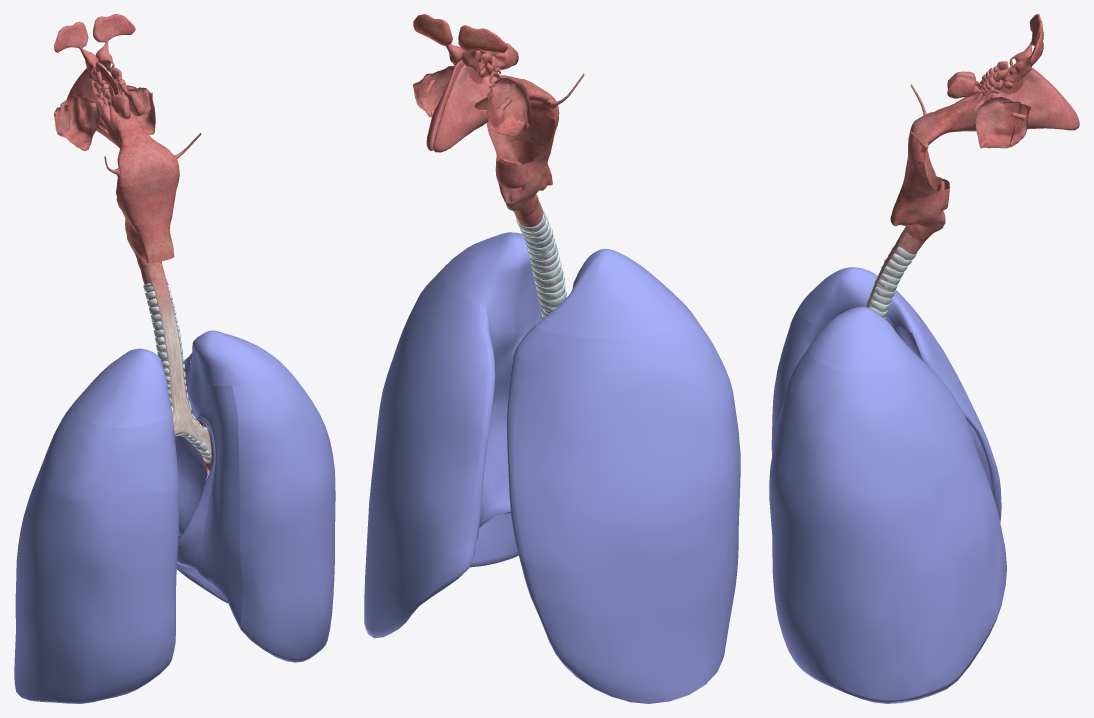
Rendered from respiratory.glb.
3 renders of one model, left to right at view 1: azimuth 30°, elevation 25°; view 2: azimuth 150°, elevation 25°; view 3: azimuth 270°, elevation 25°, orthographic. The views are drawn at different scales.
Parts seen in each view (by area): view 1: Parietal pleura, costovertebral, L#~303035, Parietal pleura, costovertebral, R#~303041, Parietal pleura, mediastinal, R#~303042, Parietal pleura, cervical, L#~303034, Parietal pleura, cervical, R#~303040, Trachea#~001380, Nasopharynx#~001375, Maxillary sinuses (membranes)#~301586, Oropharynx* (see also: digestive system)#~001376, Pulmonary ligament, R#~303044, Nasal cavity#~001366, Laryngopharynx* (see also: digestive system)#~001377 (+5 smaller); view 2: Parietal pleura, costovertebral, L#~303035, Parietal pleura, costovertebral, R#~303041, Parietal pleura, cervical, L#~303034, Parietal pleura, mediastinal, R#~303042, Parietal pleura, cervical, R#~303040, Nasal cavity#~001366, Maxillary sinuses (membranes)#~301586, Tracheal cartilaginous rings#~001381, Laryngopharynx* (see also: digestive system)#~001377, Frontal sinuses (membranes)#~301593, Parietal pleura, diaphragmatic, R#~303043, Oropharynx* (see also: digestive system)#~001376 (+3 smaller); view 3: Parietal pleura, costovertebral, R#~303041, Parietal pleura, cervical, R#~303040, Parietal pleura, costovertebral, L#~303035, Parietal pleura, cervical, L#~303034, Nasal cavity#~001366, Maxillary sinuses (membranes)#~301586, Laryngopharynx* (see also: digestive system)#~001377, Nasopharynx#~001375, Tracheal cartilaginous rings#~001381, Oropharynx* (see also: digestive system)#~001376, Trachea#~001380, Ethmoid sinuses, anterior group (membranes)#~301588 (+4 smaller).
Part boxes in pixels (box(x1,y1,x2,y2)): Parietal pleura, costovertebral, L#~303035: box(14, 395, 179, 702); Parietal pleura, costovertebral, R#~303041: box(183, 357, 335, 662); Parietal pleura, mediastinal, R#~303042: box(175, 356, 242, 628); Parietal pleura, cervical, L#~303034: box(77, 348, 172, 427); Parietal pleura, cervical, R#~303040: box(189, 330, 278, 386); Trachea#~001380: box(140, 263, 193, 435); Nasopharynx#~001375: box(116, 126, 179, 186); Maxillary sinuses (membranes)#~301586: box(54, 85, 155, 150); Oropharynx* (see also: digestive system)#~001376: box(116, 173, 179, 225); Pulmonary ligament, R#~303044: box(177, 416, 215, 569); Nasal cavity#~001366: box(66, 63, 141, 148); Laryngopharynx* (see also: digestive system)#~001377: box(125, 217, 174, 263); Parietal pleura, costovertebral, L#~303035: box(506, 305, 740, 703); Parietal pleura, costovertebral, R#~303041: box(364, 260, 495, 638); Parietal pleura, cervical, L#~303034: box(535, 248, 689, 338); Parietal pleura, mediastinal, R#~303042: box(477, 287, 541, 539); Parietal pleura, cervical, R#~303040: box(444, 232, 535, 305); Nasal cavity#~001366: box(426, 60, 510, 152); Maxillary sinuses (membranes)#~301586: box(413, 65, 531, 136); Tracheal cartilaginous rings#~001381: box(516, 212, 566, 320); Laryngopharynx* (see also: digestive system)#~001377: box(495, 141, 552, 204); Frontal sinuses (membranes)#~301593: box(413, 14, 507, 52); Parietal pleura, diaphragmatic, R#~303043: box(470, 513, 518, 567); Oropharynx* (see also: digestive system)#~001376: box(486, 110, 558, 161); Parietal pleura, costovertebral, R#~303041: box(769, 349, 1006, 703); Parietal pleura, cervical, R#~303040: box(807, 306, 913, 373); Parietal pleura, costovertebral, L#~303035: box(771, 303, 1001, 522); Parietal pleura, cervical, L#~303034: box(799, 267, 920, 333); Nasal cavity#~001366: box(954, 67, 1079, 131); Maxillary sinuses (membranes)#~301586: box(975, 78, 1029, 148); Laryngopharynx* (see also: digestive system)#~001377: box(890, 176, 949, 226); Nasopharynx#~001375: box(908, 103, 957, 162); Tracheal cartilaginous rings#~001381: box(867, 245, 917, 318); Oropharynx* (see also: digestive system)#~001376: box(903, 139, 936, 195); Trachea#~001380: box(866, 228, 924, 312); Ethmoid sinuses, anterior group (membranes)#~301588: box(996, 44, 1032, 89).
Bounding box in the file's own units: 0.6682 × 1.29 × 0.5976.
Materials: 10 (10 with a texture image).
